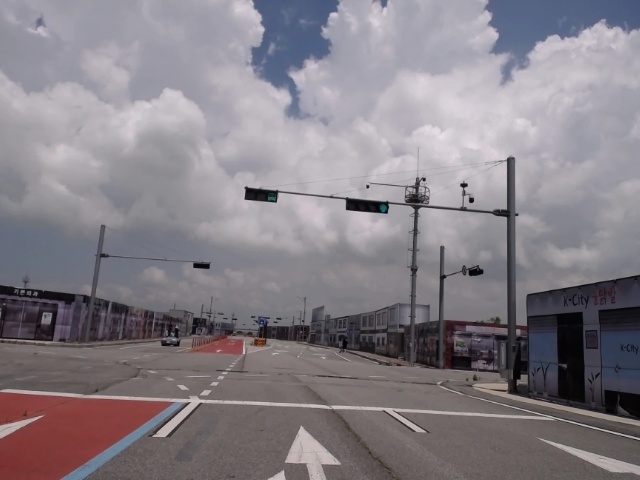straight_green_4: (348, 198, 388, 213)
